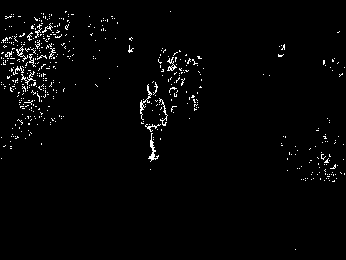person: (138, 80, 167, 165)
